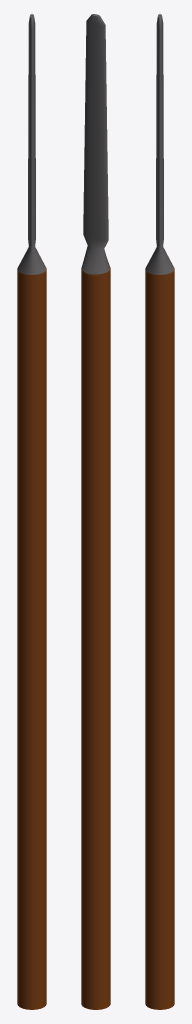
File: yari.fbx
The picture shows the model from 3 angles, left to right: view 1: azimuth 90°, elevation 25°; view 2: azimuth 150°, elevation 25°; view 3: azimuth 270°, elevation 25°; orthographic projection.
Parts seen in each view (by area): view 1: pCylinder1; view 2: pCylinder1; view 3: pCylinder1.
Boxes of the visible parts, box(x1,y1,x2,y2) form: pCylinder1: box(17, 14, 46, 1009); pCylinder1: box(81, 14, 110, 1009); pCylinder1: box(145, 14, 174, 1009).
Size of the model in its own units: 20 by 739 by 20.26.
